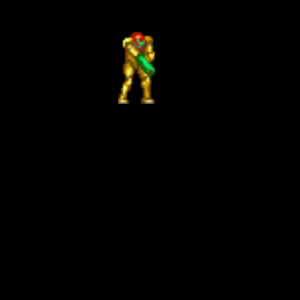Collectible: (118, 32, 155, 104)
